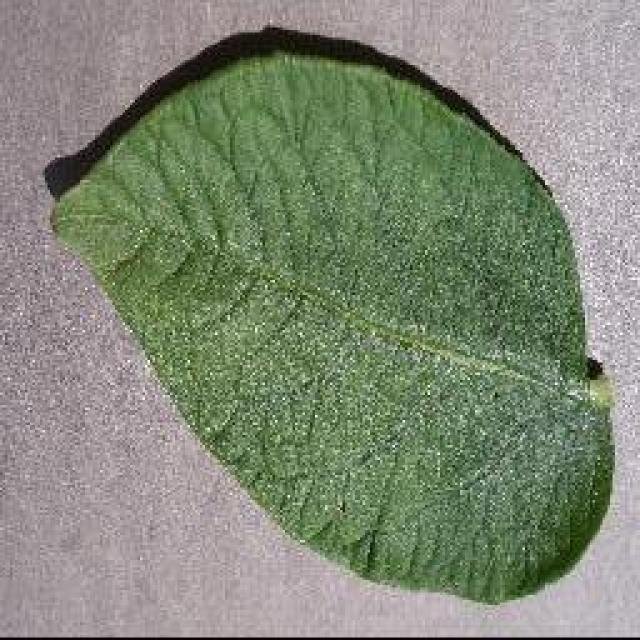Potato___healthy: (52, 48, 616, 607)
